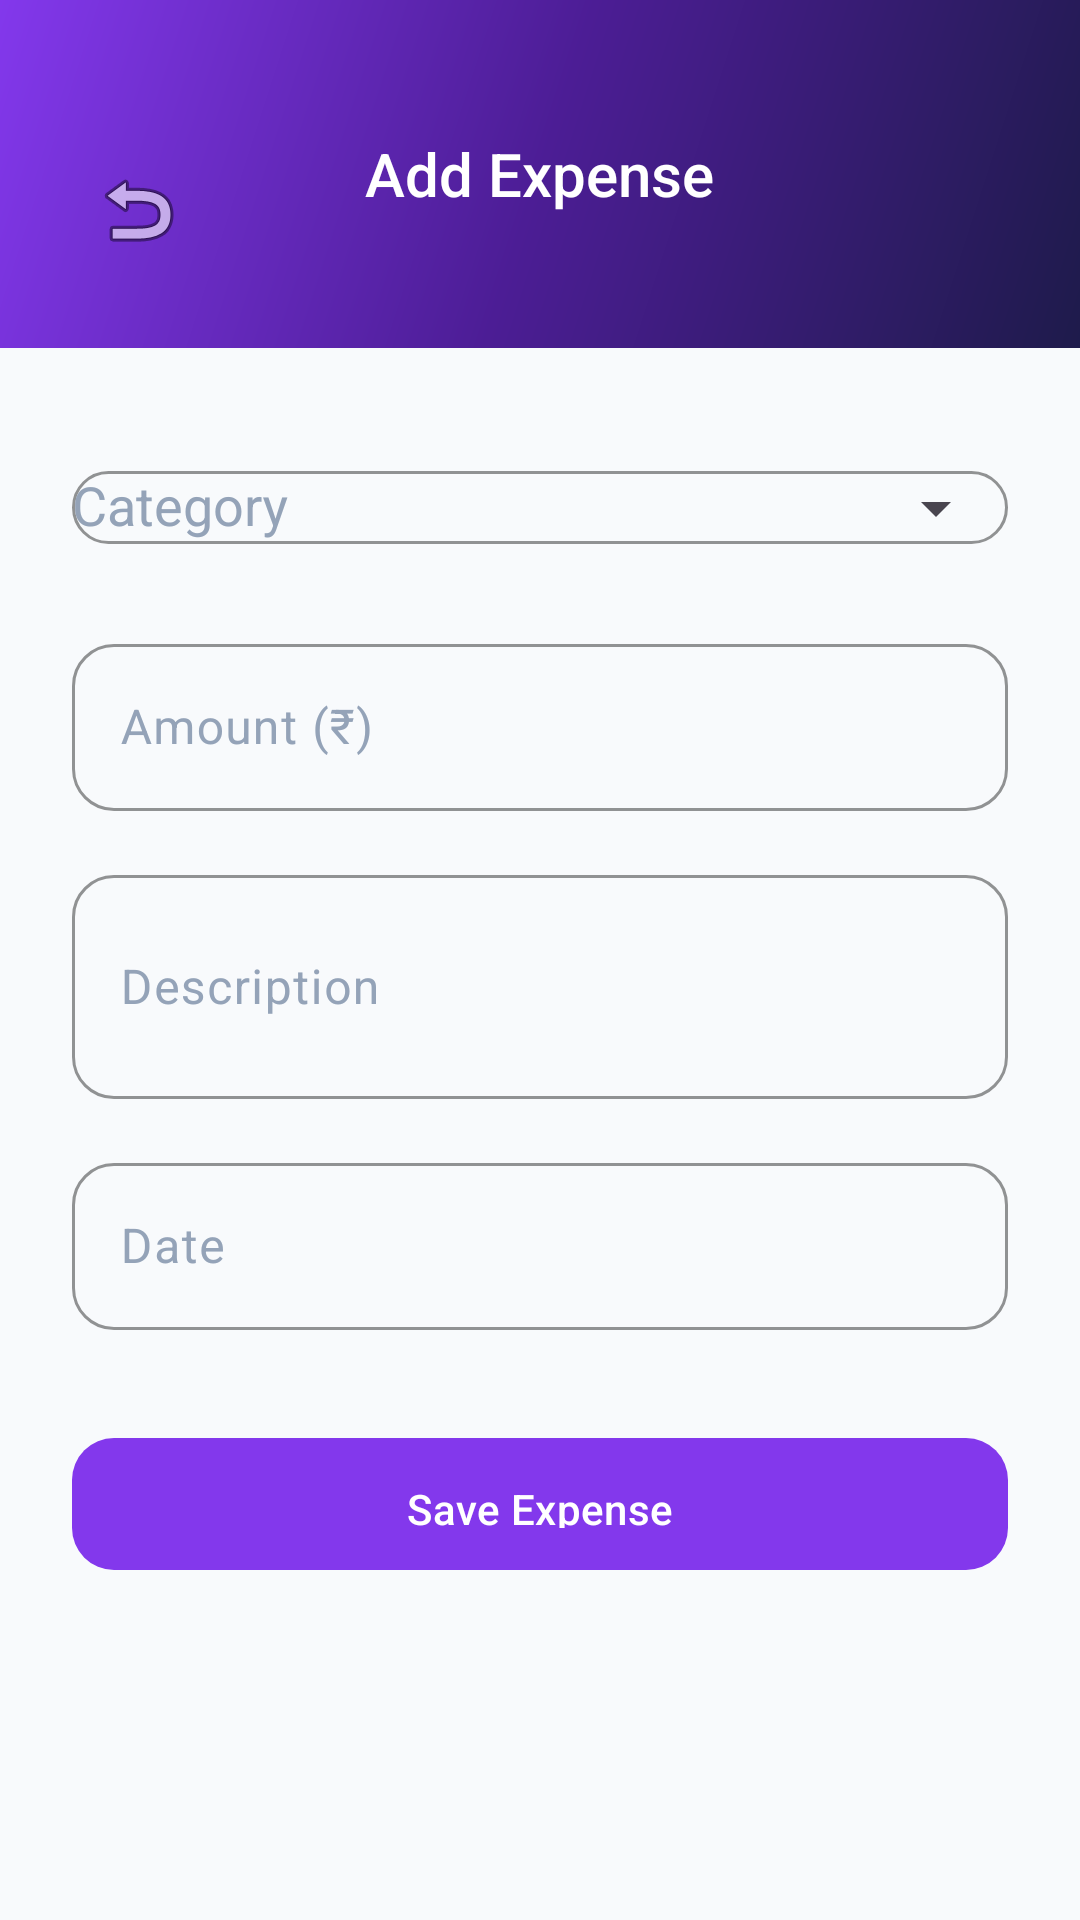

Named icons in this screenshot (1080x1920) and their bounding boxes, (x1, y1, x2, y2):
Back: (105, 180, 174, 242)
